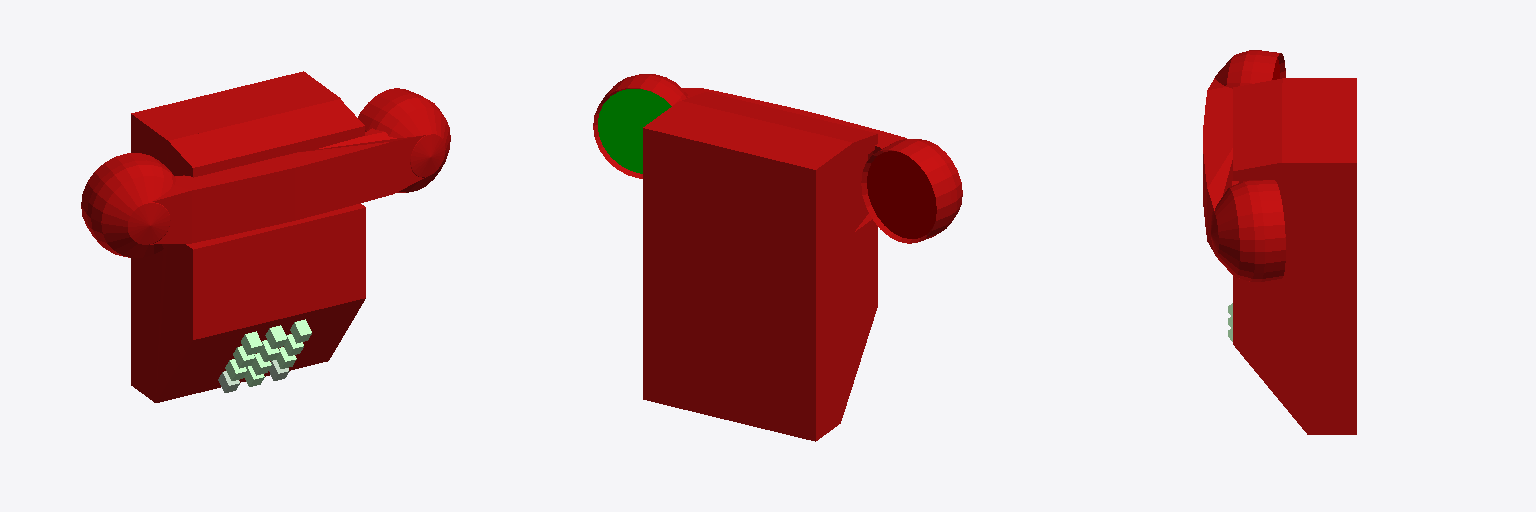
Rendered from phone.obj.
The picture shows the model from 3 angles: view 1: azimuth 30°, elevation 25°; view 2: azimuth 150°, elevation 25°; view 3: azimuth 270°, elevation 25°; orthographic projection.
Parts seen in each view (by area): view 1: Phone; view 2: Phone; view 3: Phone.
Boxes of the visible parts, box(x1,y1,x2,y2) form: Phone: box(81, 71, 450, 402); Phone: box(593, 74, 962, 441); Phone: box(1203, 50, 1356, 434).
Bounding box in the file's own units: 0.3586 × 0.2635 × 0.1356.